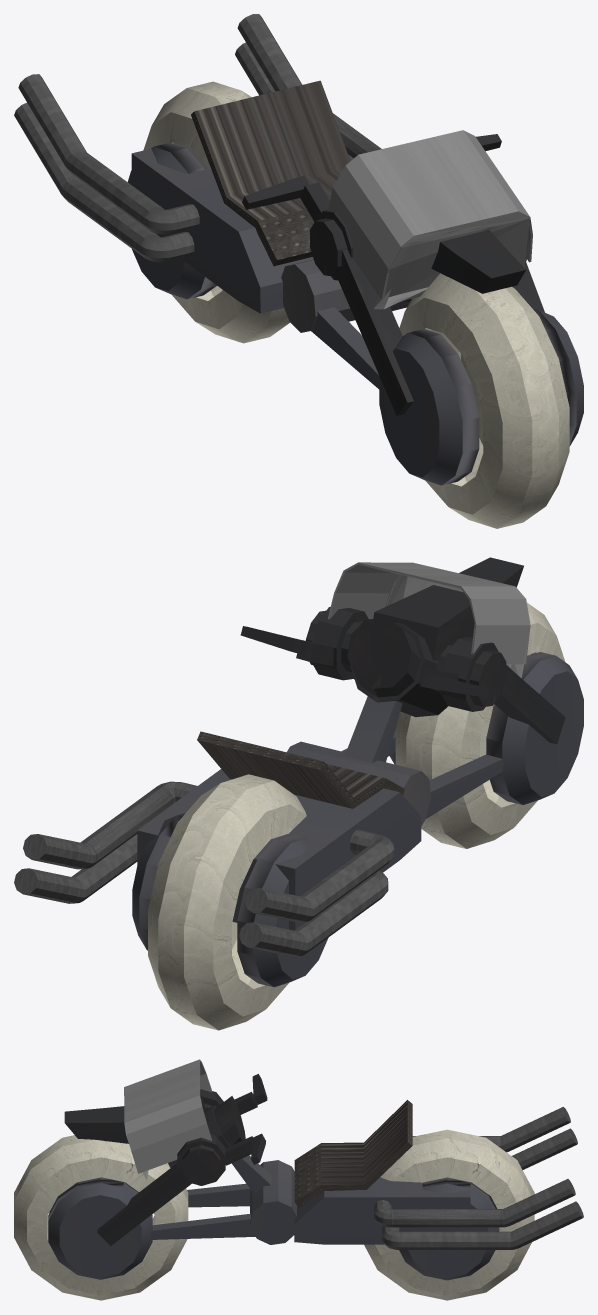
Rendered from Bike WIthout Hand Model.fbx.
3 views of the same model, one above another, from view 1: azimuth 30°, elevation 25°; view 2: azimuth 150°, elevation 25°; view 3: azimuth 270°, elevation 25° (orthographic). The views are drawn at different scales.
Visible parts, largest first — view 1: pTorus4, pCube14, pCube12, pCylinder4, pCube11, pTorus6, pCylinder15, pCylinder18, pCube13, pCube9, pCylinder5, pCylinder3 (+6 smaller); view 2: pTorus6, pTorus4, pCube11, pCube14, pCylinder4, pCylinder6, pCube12, pCube9, pCylinder3, pCylinder15, pCylinder17, pCylinder18 (+10 smaller); view 3: pTorus4, pTorus6, pCylinder1, pCube14, pCube11, pCube12, pCylinder17, pCylinder16, pCylinder2, pCylinder5, pCube4, pCube1 (+9 smaller).
Boxes of the visible parts, bbox=[...] form: pTorus4: bbox=[399, 273, 569, 528]; pCube14: bbox=[328, 130, 532, 309]; pCube12: bbox=[191, 80, 350, 266]; pCylinder4: bbox=[379, 329, 479, 485]; pCube11: bbox=[131, 143, 353, 313]; pTorus6: bbox=[143, 81, 289, 343]; pCylinder15: bbox=[18, 74, 199, 234]; pCylinder18: bbox=[14, 102, 194, 262]; pCube13: bbox=[336, 249, 413, 415]; pCube9: bbox=[431, 230, 525, 293]; pCylinder5: bbox=[281, 259, 410, 332]; pCylinder3: bbox=[128, 142, 216, 299]; pTorus6: bbox=[148, 774, 306, 1030]; pTorus4: bbox=[395, 602, 565, 848]; pCube11: bbox=[137, 769, 421, 930]; pCube14: bbox=[328, 562, 530, 677]; pCylinder4: bbox=[486, 652, 583, 804]; pCylinder6: bbox=[347, 618, 448, 717]; pCube12: bbox=[197, 731, 404, 808]; pCube9: bbox=[373, 557, 523, 660]; pCylinder3: bbox=[237, 834, 328, 987]; pCylinder15: bbox=[245, 829, 394, 922]; pCylinder17: bbox=[23, 781, 197, 869]; pCylinder18: bbox=[239, 870, 388, 956]; pTorus4: bbox=[14, 1135, 188, 1300]; pTorus6: bbox=[364, 1129, 534, 1300]; pCylinder1: bbox=[48, 1177, 152, 1279]; pCube14: bbox=[124, 1059, 212, 1180]; pCube11: bbox=[294, 1177, 470, 1244]; pCube12: bbox=[294, 1100, 412, 1207]; pCylinder17: bbox=[374, 1179, 575, 1227]; pCylinder16: bbox=[382, 1201, 583, 1249]; pCylinder2: bbox=[399, 1178, 499, 1280]; pCylinder5: bbox=[250, 1160, 296, 1244]; pCube4: bbox=[97, 1163, 193, 1245]; pCube1: bbox=[151, 1213, 255, 1239].
Bounding box in the file's own units: 0.5458 × 0.6646 × 1.56.
6 materials, 6 textured.
